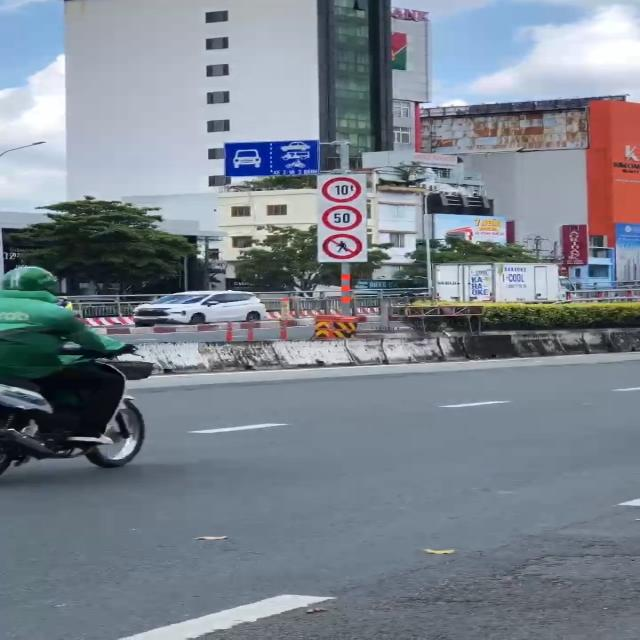Bien bao cam nguoi di bo: (320, 233, 368, 261)
Bien bao toc do toi da cho phep: (319, 202, 370, 232)
